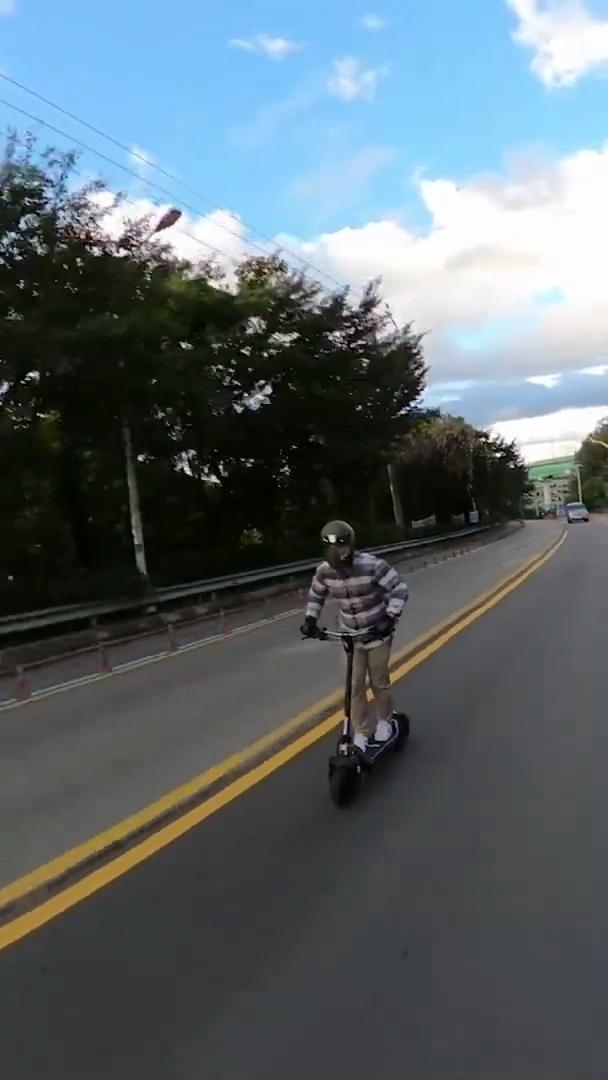helmet: (295, 514, 413, 810)
